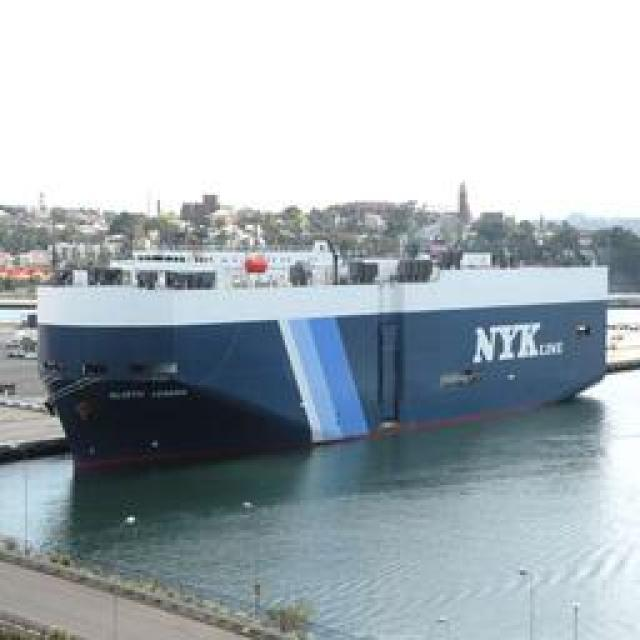CIV_Ship: (35, 235, 620, 463)
